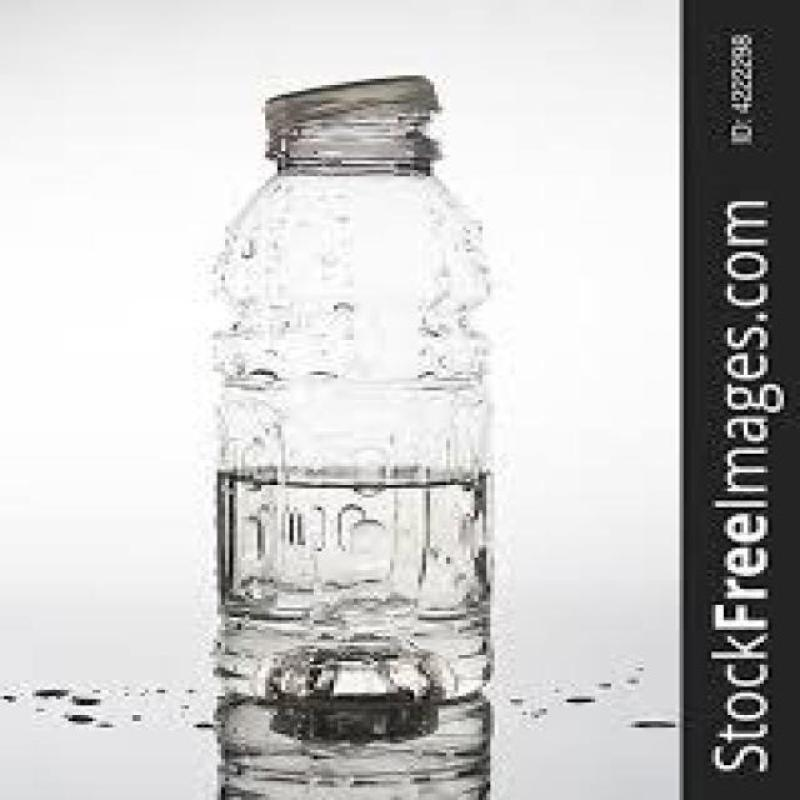botella: (203, 73, 501, 702)
